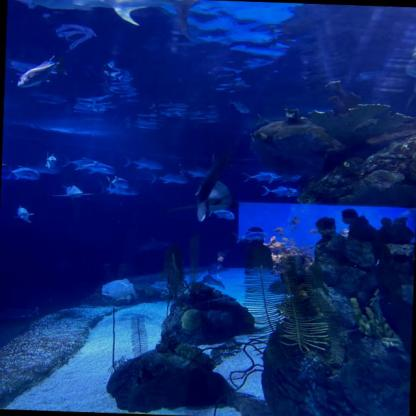fish: (28, 0, 212, 42), (17, 51, 67, 89), (101, 278, 138, 300), (75, 161, 115, 175), (232, 229, 269, 244), (124, 156, 163, 170), (242, 171, 280, 185), (6, 165, 39, 180), (262, 185, 300, 198), (100, 183, 137, 196), (151, 173, 188, 185), (62, 156, 99, 168), (266, 172, 302, 184), (13, 205, 33, 223), (228, 96, 249, 113), (208, 207, 235, 220), (181, 166, 210, 178), (107, 176, 128, 188), (45, 151, 56, 170), (287, 216, 301, 226), (271, 226, 283, 232), (310, 229, 320, 233), (291, 224, 297, 230), (282, 237, 288, 241), (278, 232, 284, 235)
shark: (176, 156, 243, 222), (53, 175, 93, 199), (133, 235, 171, 254), (201, 274, 225, 290)
stingray: (0, 306, 44, 322)
